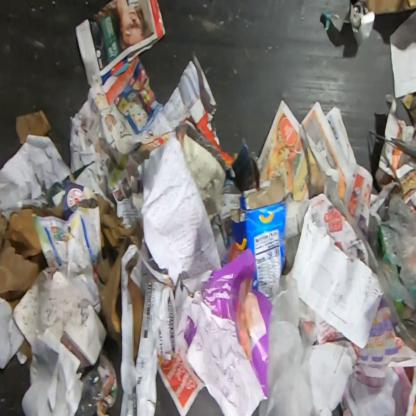cardboard: (230, 177, 288, 299), (95, 193, 144, 334), (232, 143, 262, 192)
metal: (320, 1, 376, 48)
rigid_plastic: (75, 368, 103, 416)
soft_plastic: (257, 275, 322, 415), (380, 195, 415, 288)
